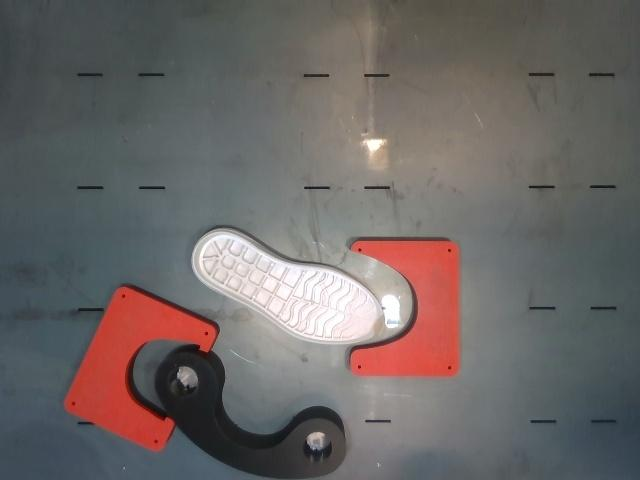shoes: (193, 233, 384, 343)
